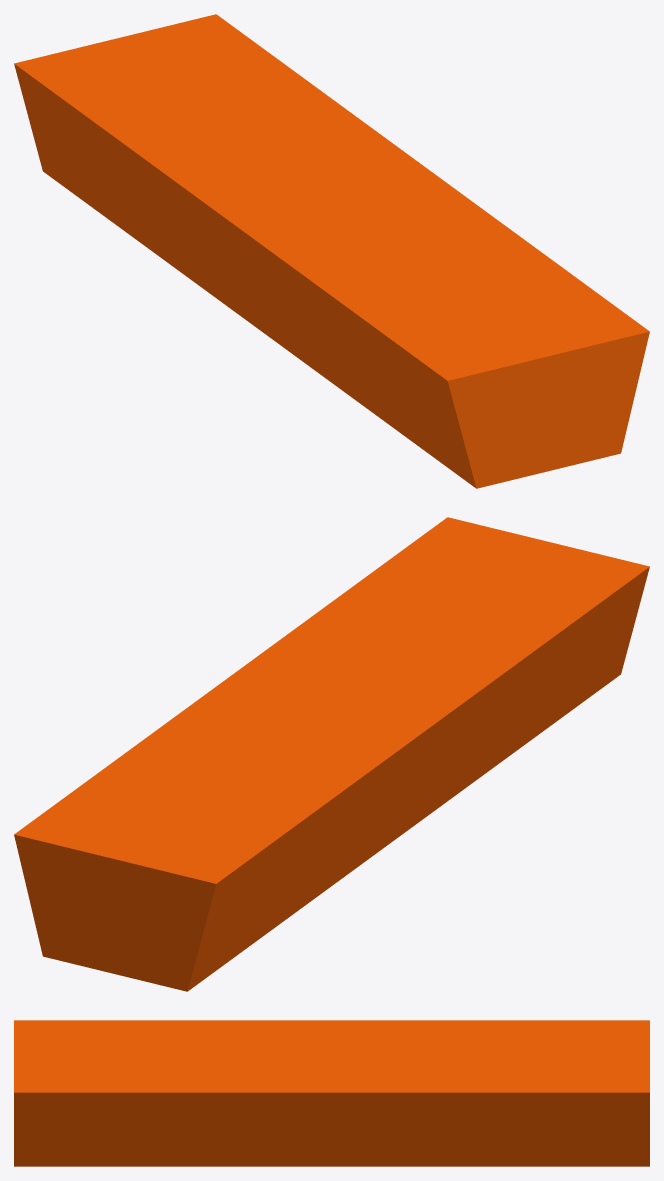
Rendered from hedge_04.fbx.
3 views of the same model, one above another, from view 1: azimuth 30°, elevation 25°; view 2: azimuth 150°, elevation 25°; view 3: azimuth 270°, elevation 25° (orthographic). The views are drawn at different scales.
Visible parts, largest first — view 1: hedge_04; view 2: hedge_04; view 3: hedge_04.
Part boxes in pixels (x1,y1,x2,y2): hedge_04: (14, 14, 649, 488); hedge_04: (14, 517, 649, 991); hedge_04: (14, 1020, 649, 1166).
Size of the model in its own units: 1.84 by 1 by 6.84.
